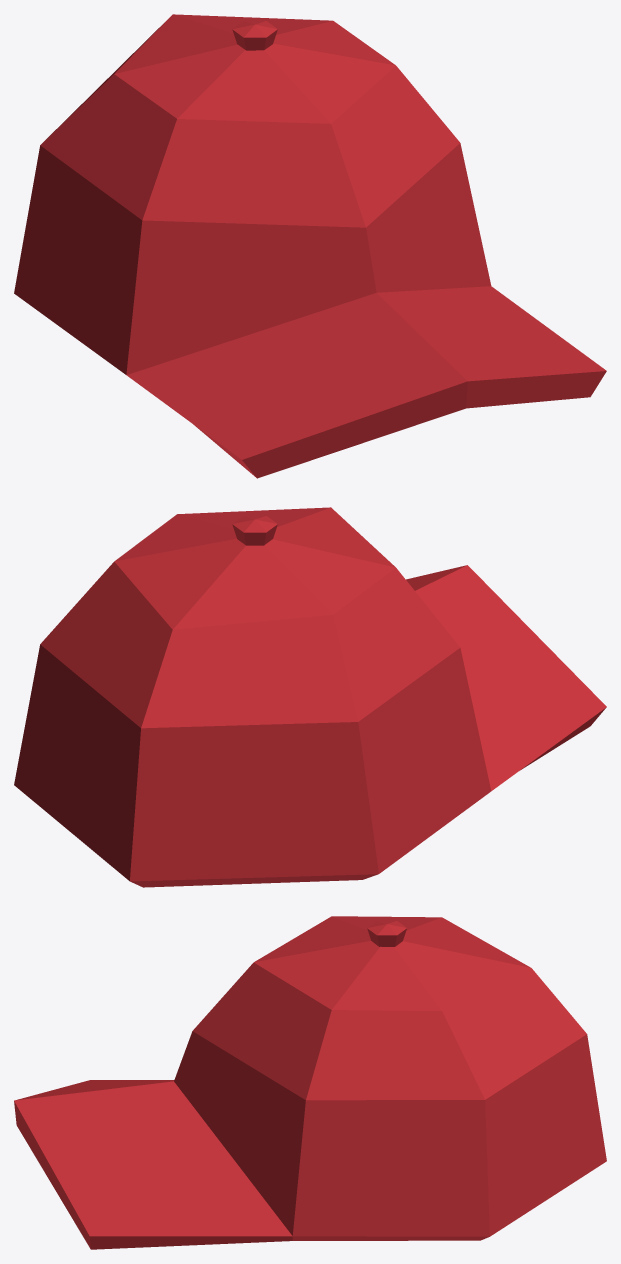
The model's file is cap-baseball.glb.
The picture shows the model from 3 angles, top to bottom: view 1: azimuth 30°, elevation 25°; view 2: azimuth 150°, elevation 25°; view 3: azimuth 270°, elevation 25°; orthographic projection. The views are drawn at different scales.
Parts seen in each view (by area): view 1: cap-baseball; view 2: cap-baseball; view 3: cap-baseball.
Boxes of the visible parts, x1=… form: cap-baseball: x1=14, y1=14, x2=606, y2=478; cap-baseball: x1=14, y1=507, x2=606, y2=887; cap-baseball: x1=14, y1=916, x2=606, y2=1249.
Size of the model in its own units: 0.1981 by 0.1503 by 0.3176.
1 material, 1 textured.
